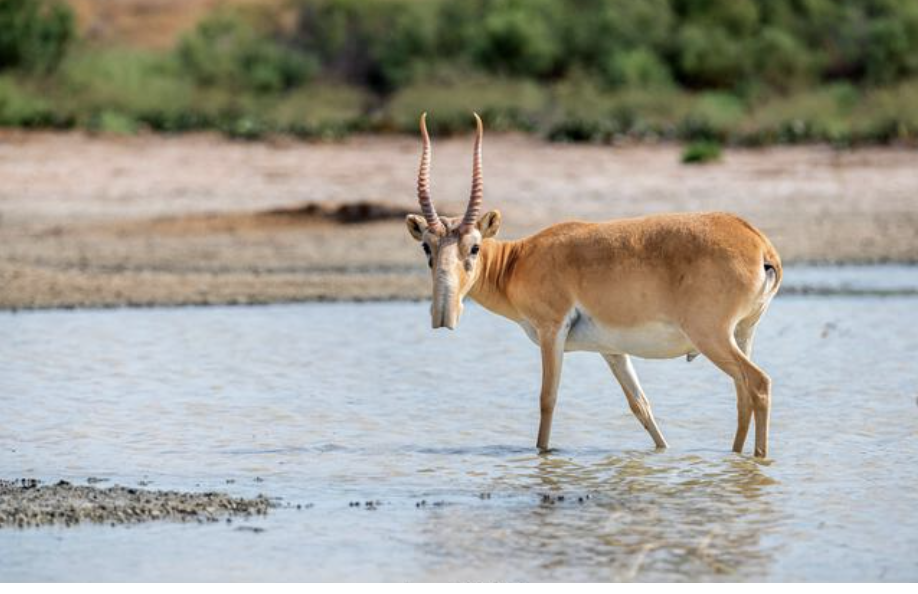saiga: (404, 103, 803, 469)
